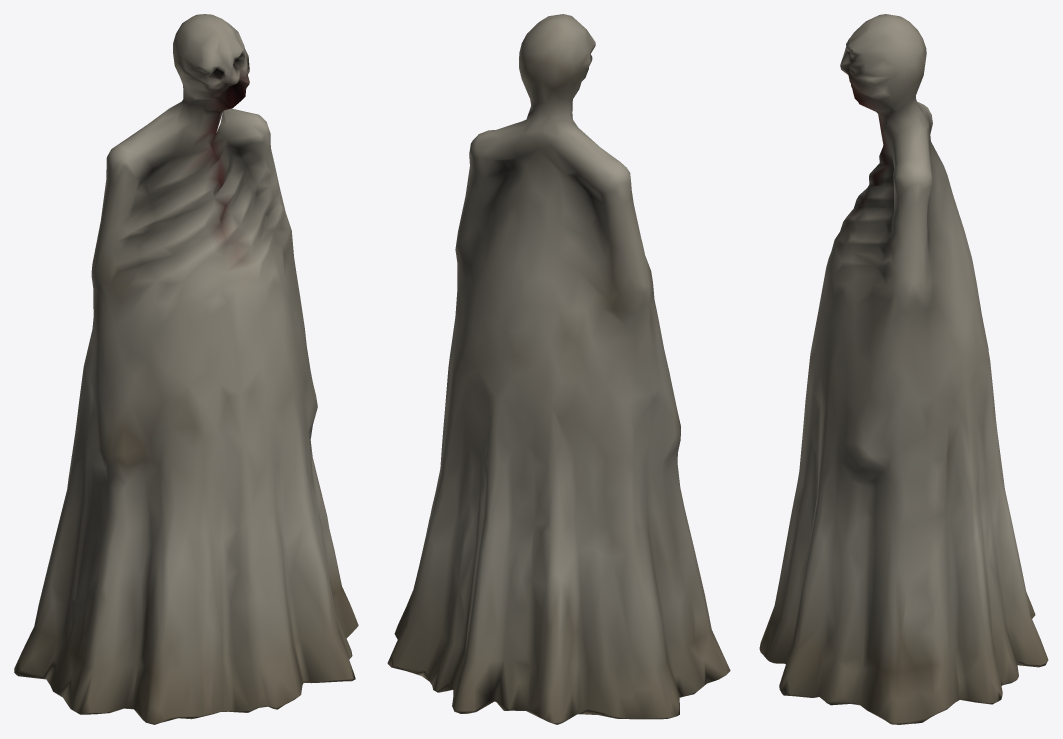
File: sheet_ghost.glb
The picture shows the model from 3 angles, left to right: view 1: azimuth 30°, elevation 25°; view 2: azimuth 150°, elevation 25°; view 3: azimuth 270°, elevation 25°; orthographic projection. The views are drawn at different scales.
Parts seen in each view (by area): view 1: sheet_ghost; view 2: sheet_ghost; view 3: sheet_ghost.
Boxes of the visible parts, bbox=[...] form: sheet_ghost: bbox=[14, 14, 358, 724]; sheet_ghost: bbox=[387, 14, 730, 724]; sheet_ghost: bbox=[759, 14, 1048, 724].
Size of the model in its own units: 1.08 by 2.17 by 0.8897.
